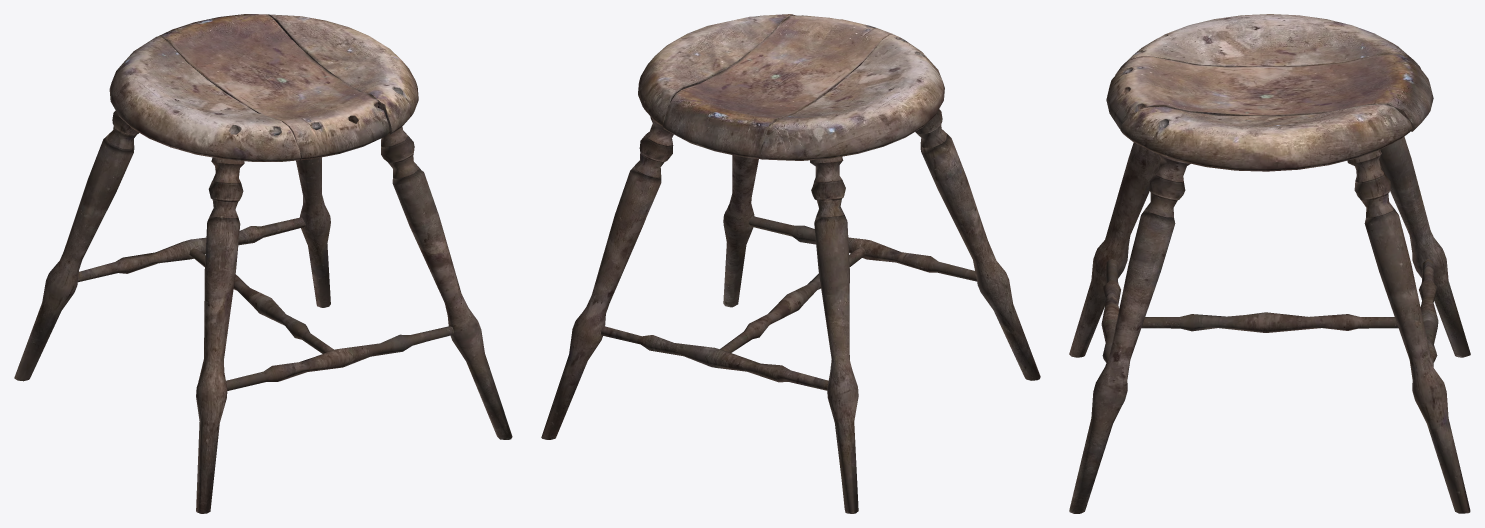
File: wooden_stool_01.glb
The picture shows the model from 3 angles, left to right: view 1: azimuth 30°, elevation 25°; view 2: azimuth 150°, elevation 25°; view 3: azimuth 270°, elevation 25°; orthographic projection. The views are drawn at different scales.
Visible parts, largest first — view 1: wooden_stool_01; view 2: wooden_stool_01; view 3: wooden_stool_01.
Part boxes in pixels (x1,y1,x2,y2): wooden_stool_01: (14,14,512,513); wooden_stool_01: (541,14,1040,513); wooden_stool_01: (1069,14,1470,513).
Size of the model in its own units: 0.4242 by 0.4365 by 0.4418.
Materials: 1 (1 with a texture image).
